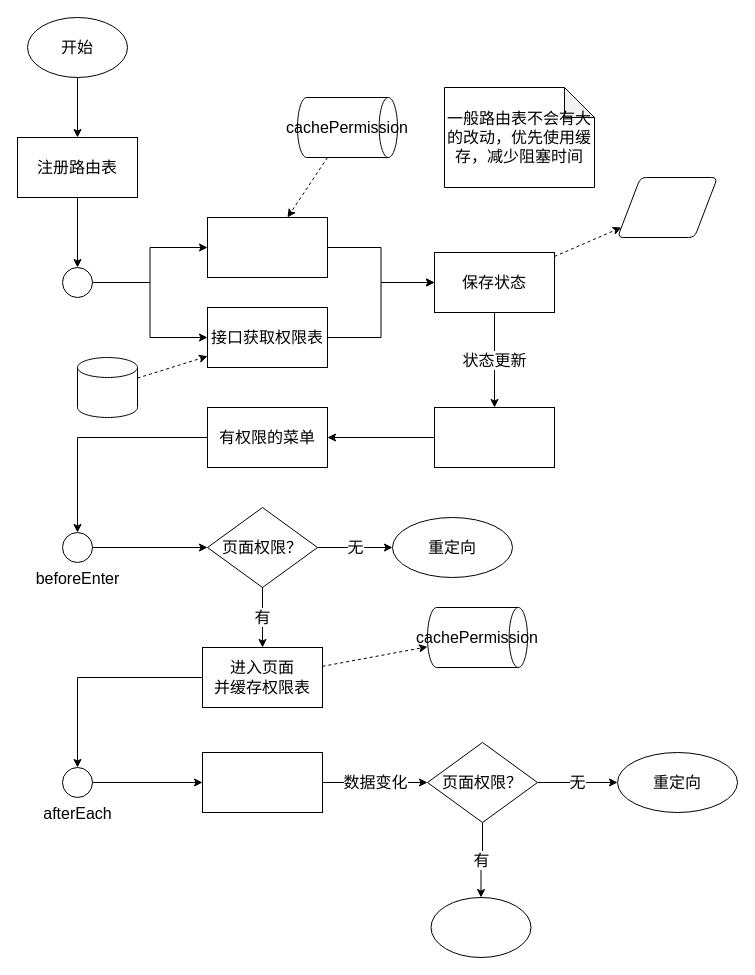
Image size: 755x975. Some labels were removed from this diagram. The centre of each missing label's shape, as x and y in pixels:
beforeEach: (77,282)
permission: (107,387)
vuex store: (667,207)
监听 vuex store: (262,782)
结束: (480,927)
自定义权限: (494,437)
获取缓存权限表: (267,247)
